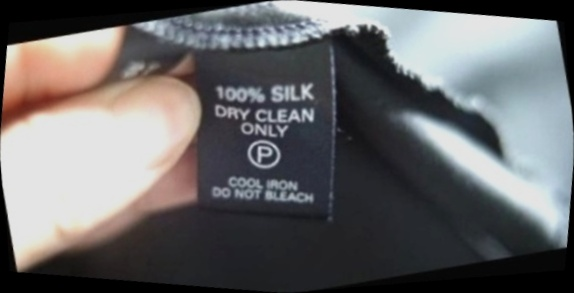dry_clean_any_solvent_except_trichloroethylene: (237, 126, 293, 180)
